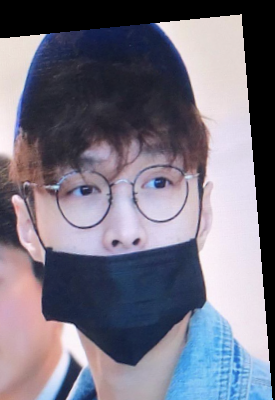mask_weared_incorrect: (6, 21, 224, 368)
